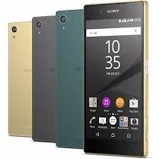sony: (82, 2, 148, 157)
